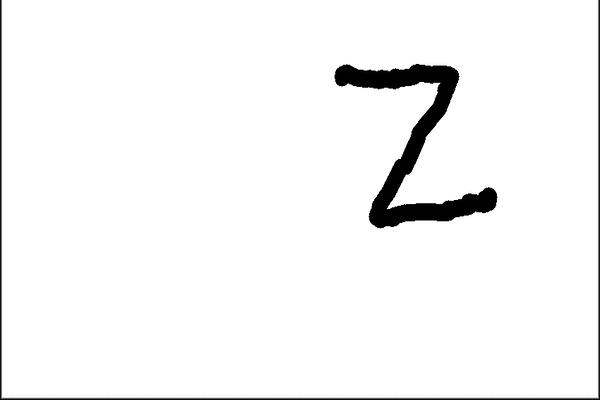Z: (322, 49, 509, 233)
